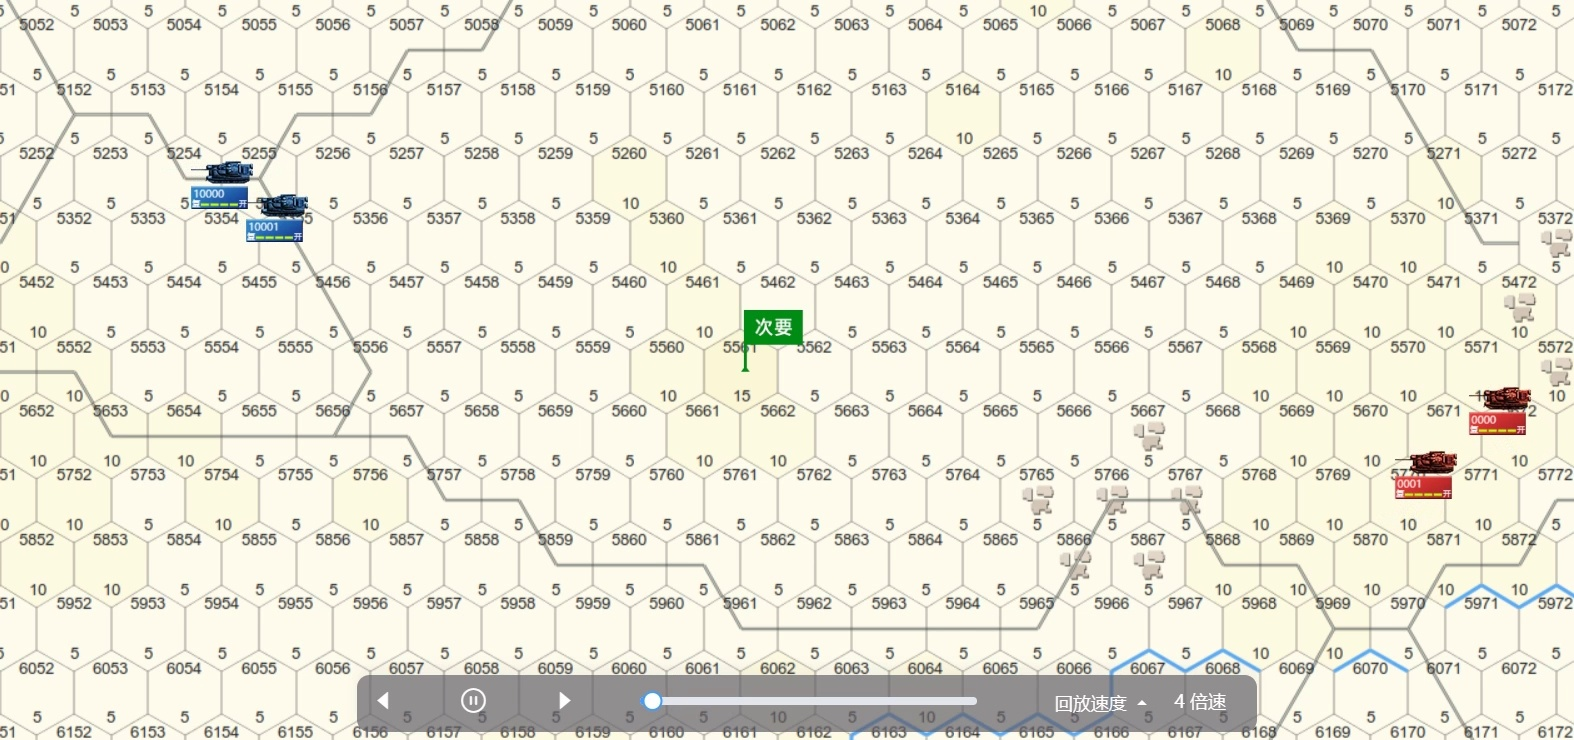blue_tank: (193, 155, 245, 206), (256, 195, 309, 236)
red_tank: (1397, 444, 1454, 487), (1472, 387, 1530, 426)
